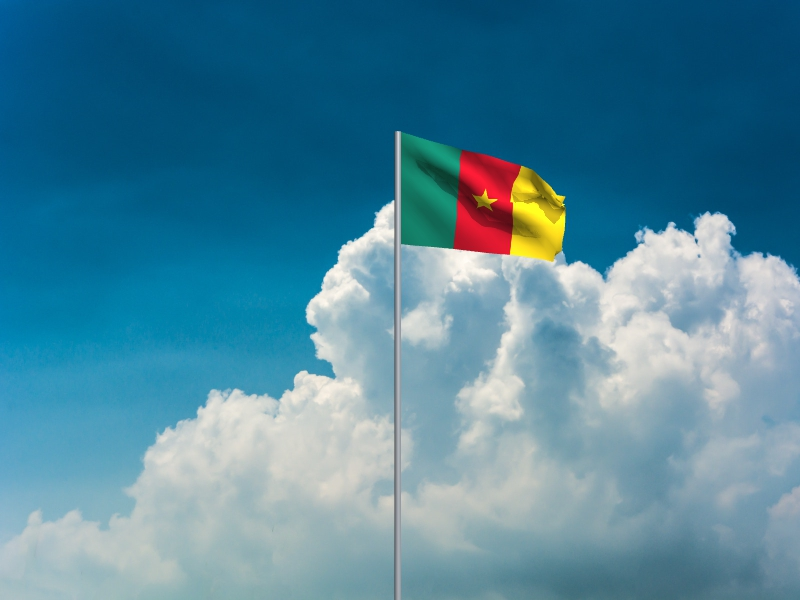cm: (402, 133, 568, 263)
